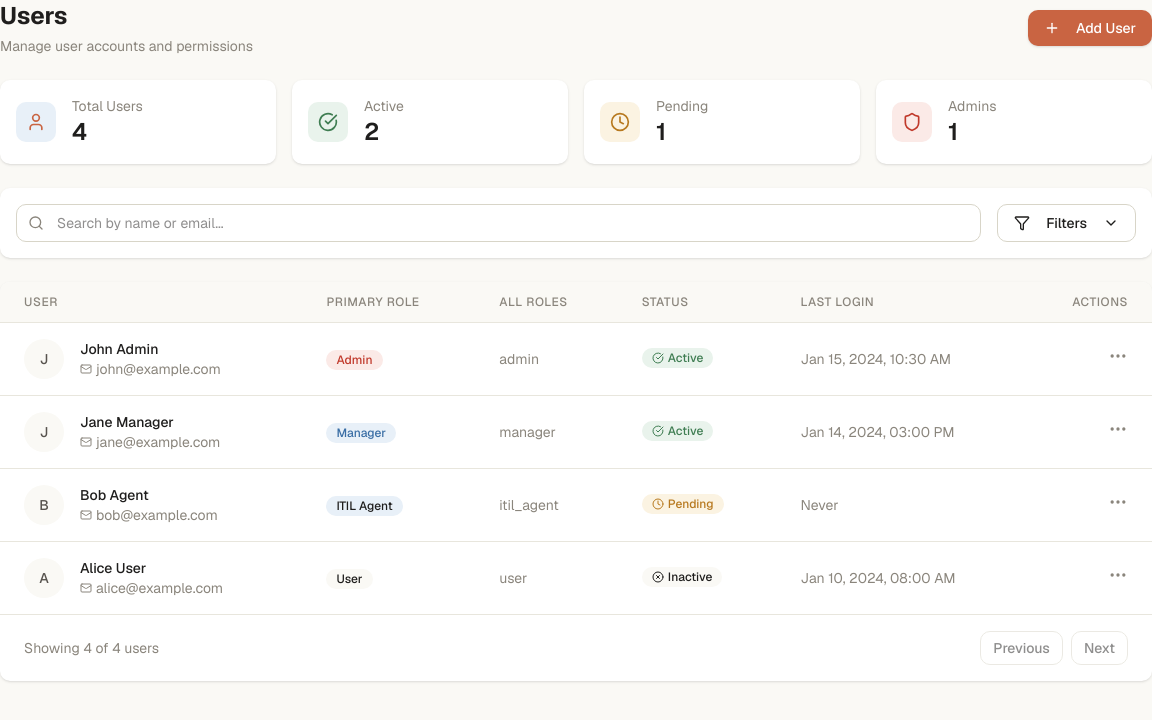
UsersPage › Empty State › shows empty state when no users match filters
Expected: the text "John Admin" is shown, [80,340,158,358]
Click the button "Filters" at (1067, 223), box [997,204,1136,242]
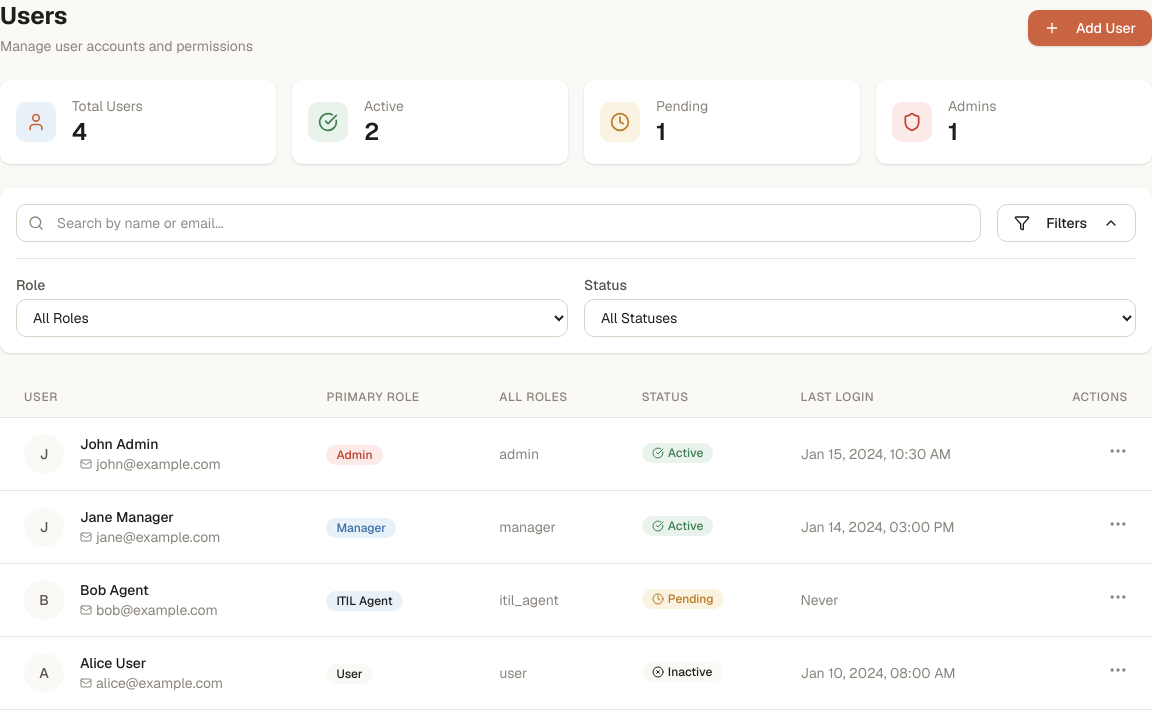
Select "Manager" in the 1st dropdown at (292, 318), box [16,299,568,337]
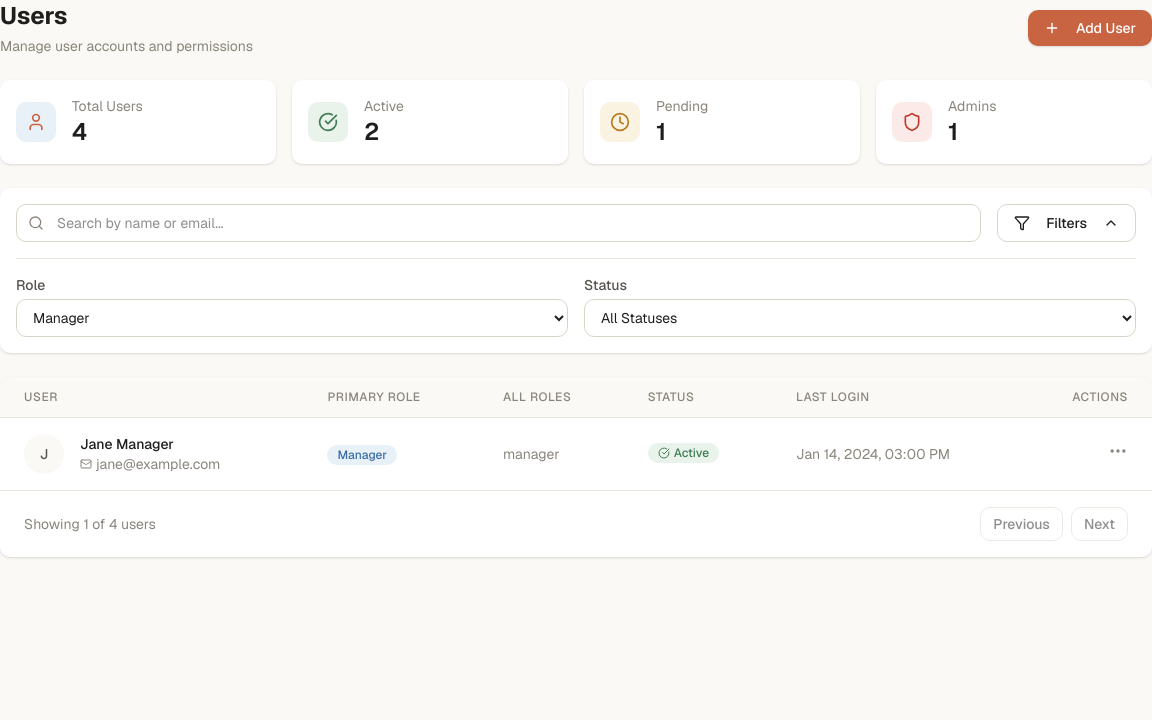
Expected: the text "Jane Manager" is shown, [80,435,174,453]
Result: the text "John Admin" is gone
